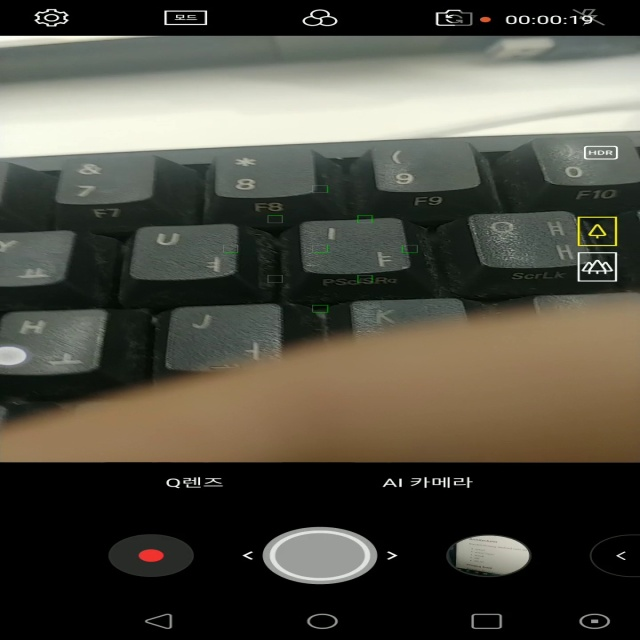Cursor: (1, 344, 32, 368)
